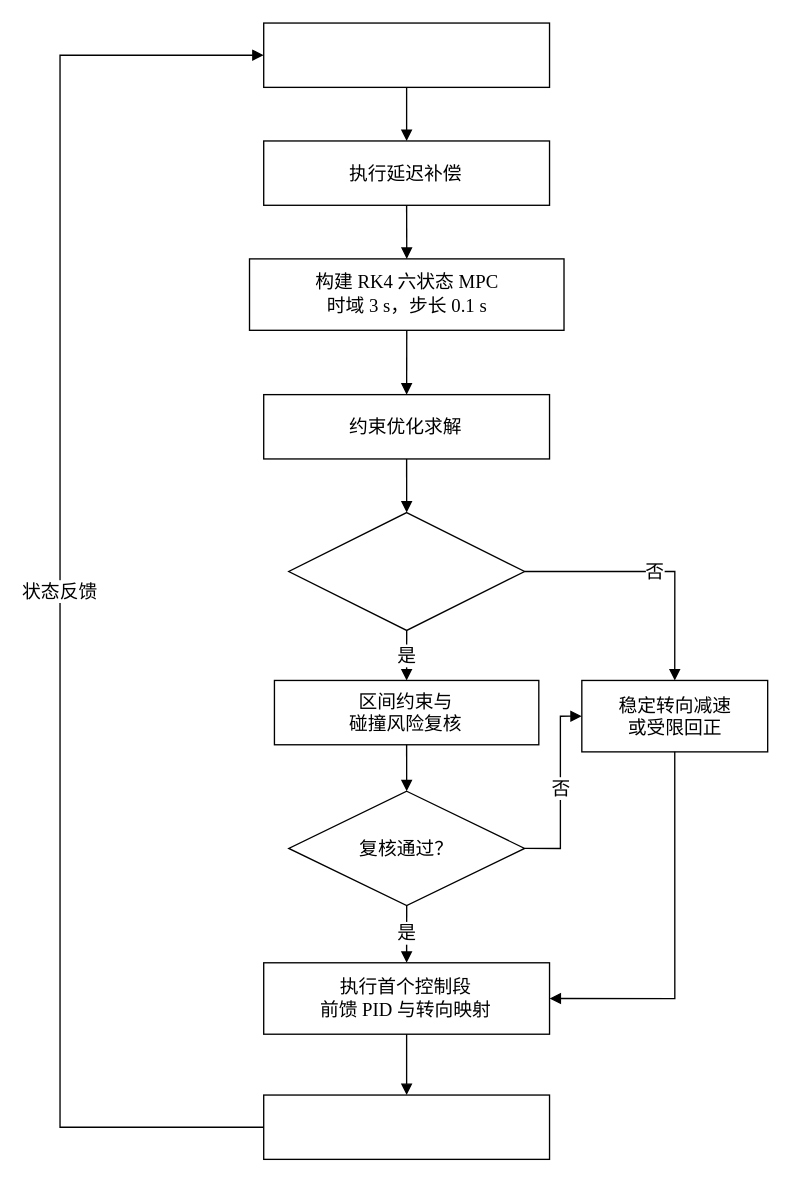
Some shapes in this 792 by 1183 pixel diagram are drawn without their labels. The shapes that lost their labels are listed below. From the top down, each one's centre as x and y in pixels, then its label:
At (406,54): "本车状态与参考轨迹".
At (406,570): "按时获得 有效解？".
At (406,1126): "车辆响应与状态更新".
